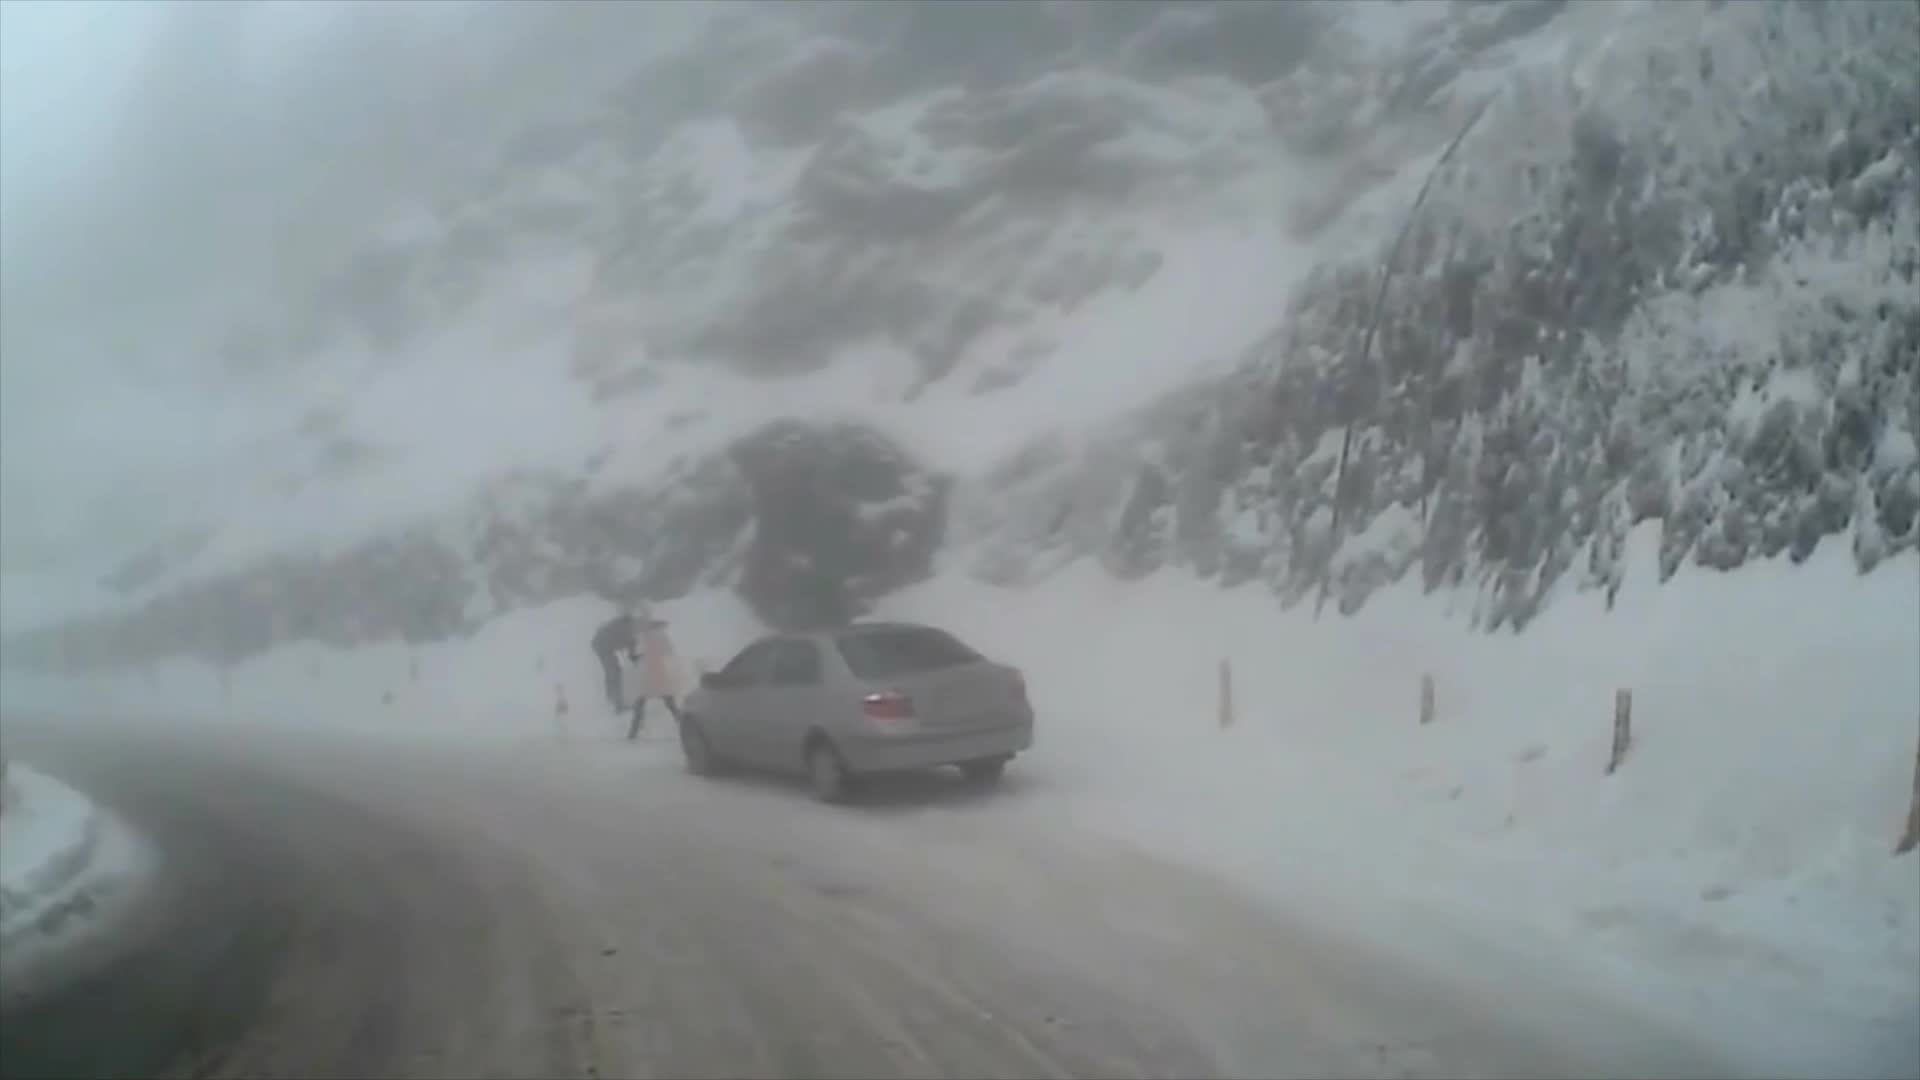pedestrian: (624, 607, 703, 743), (596, 609, 672, 713)
vehicle: (676, 620, 1035, 807)
